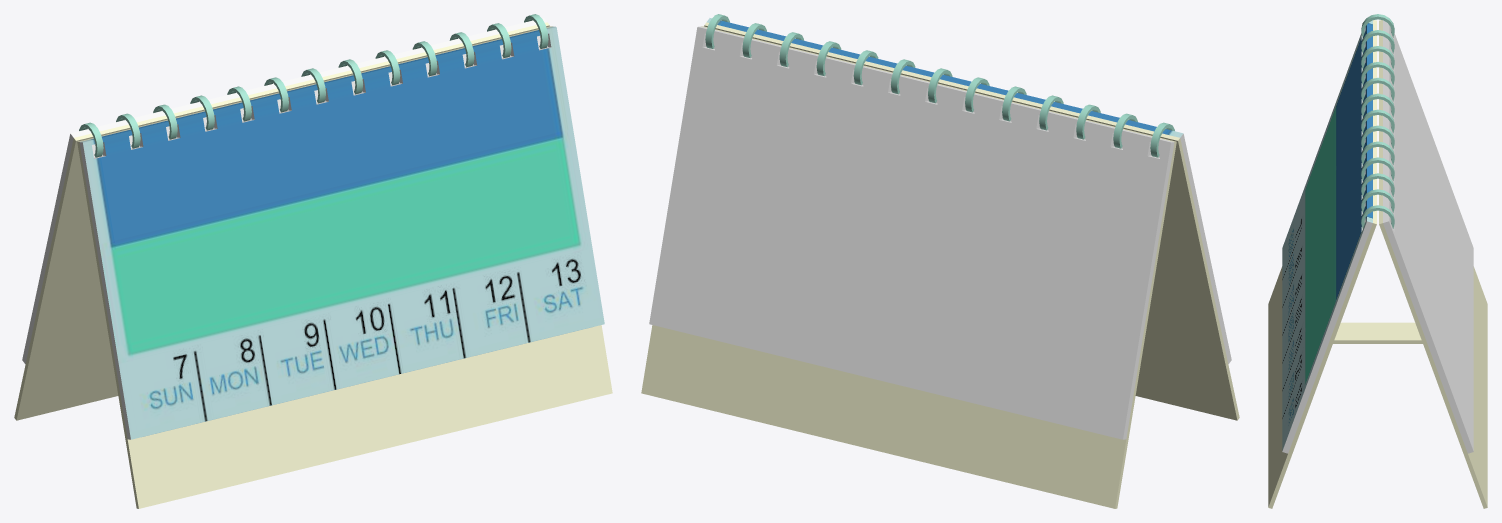
Rendered from LowPoly_Calendar.gltf.
3 renders of one model, left to right at view 1: azimuth 30°, elevation 25°; view 2: azimuth 150°, elevation 25°; view 3: azimuth 270°, elevation 25°, orthographic. The views are drawn at different scales.
Parts seen in each view (by area): view 1: node-0; view 2: node-0; view 3: node-0.
Boxes of the visible parts, bbox=[...] form: node-0: bbox=[14, 14, 612, 508]; node-0: bbox=[641, 14, 1239, 508]; node-0: bbox=[1268, 14, 1487, 508].
Size of the model in its own units: 23 by 15.61 by 10.48.
Materials: 4 (1 with a texture image).
